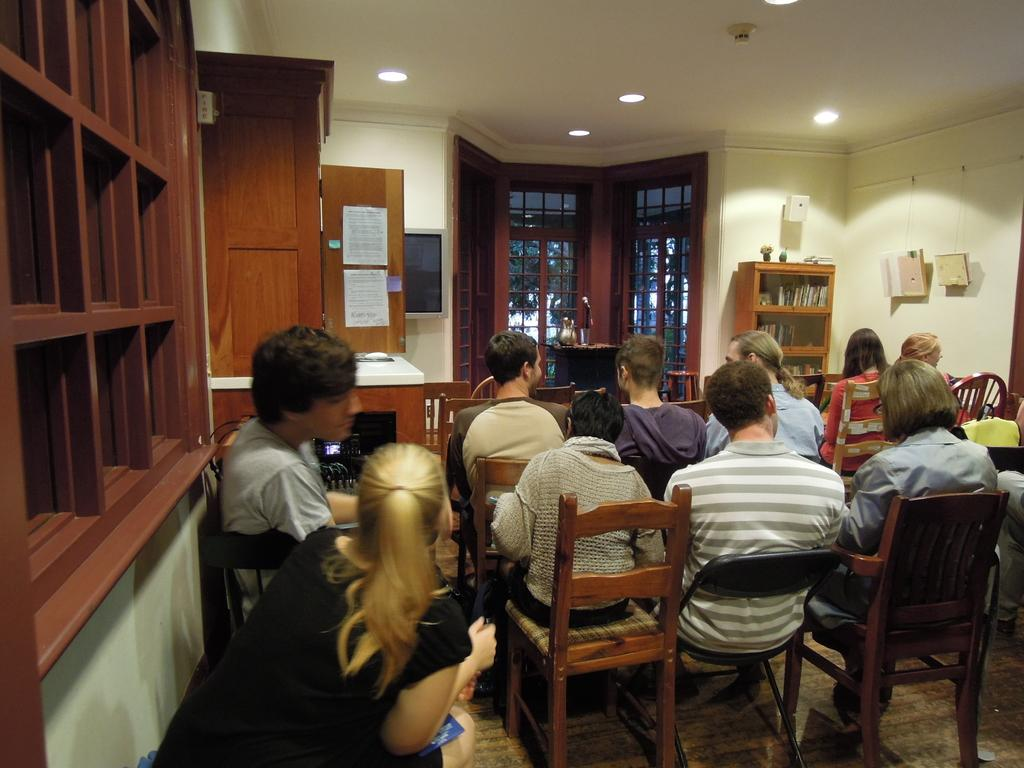Chair: (780, 492, 1009, 767), (516, 440, 689, 765), (618, 550, 841, 767), (202, 527, 361, 646), (437, 388, 505, 505), (831, 378, 897, 496), (943, 371, 1006, 428), (657, 376, 715, 427), (779, 373, 828, 414), (531, 383, 579, 417), (468, 376, 497, 399)
